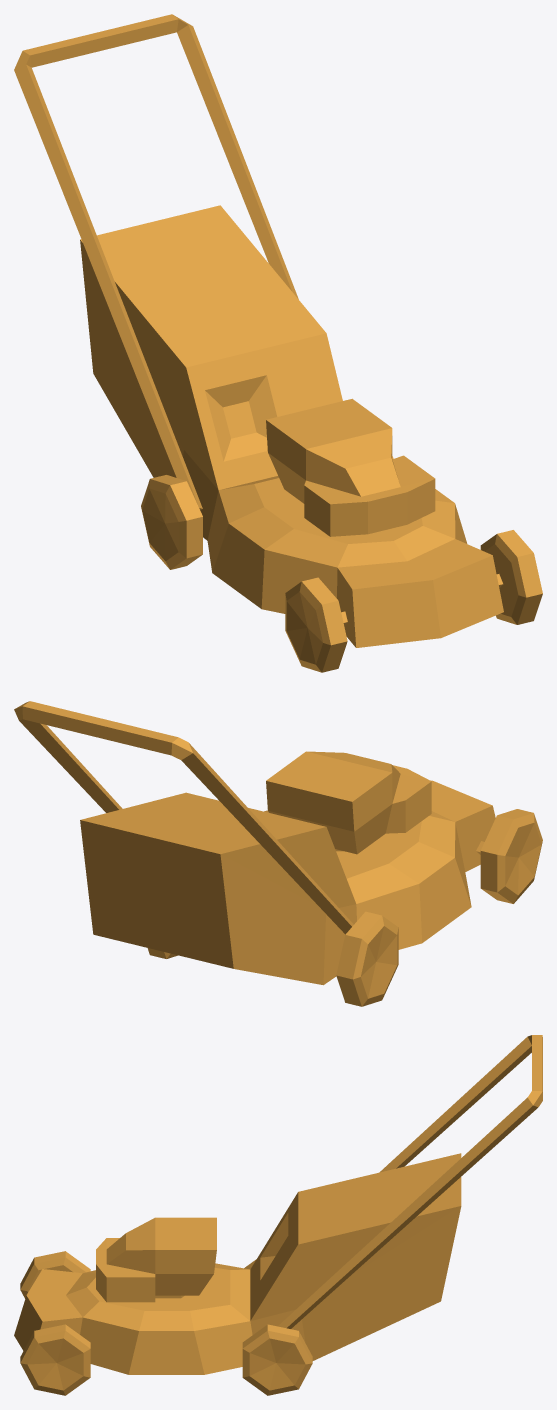
The model's file is lawn-mower.glb.
3 renders of one model, top to bottom at view 1: azimuth 30°, elevation 25°; view 2: azimuth 150°, elevation 25°; view 3: azimuth 270°, elevation 25°, orthographic. The views are drawn at different scales.
Visible parts, largest first — view 1: lawn-mower; view 2: lawn-mower; view 3: lawn-mower.
Part boxes in pixels (box(x1,y1,x2,y2)): lawn-mower: box(14, 14, 542, 672); lawn-mower: box(14, 701, 542, 1006); lawn-mower: box(14, 1035, 542, 1395).
Bounding box in the file's own units: 0.6902 × 1.15 × 1.88.
